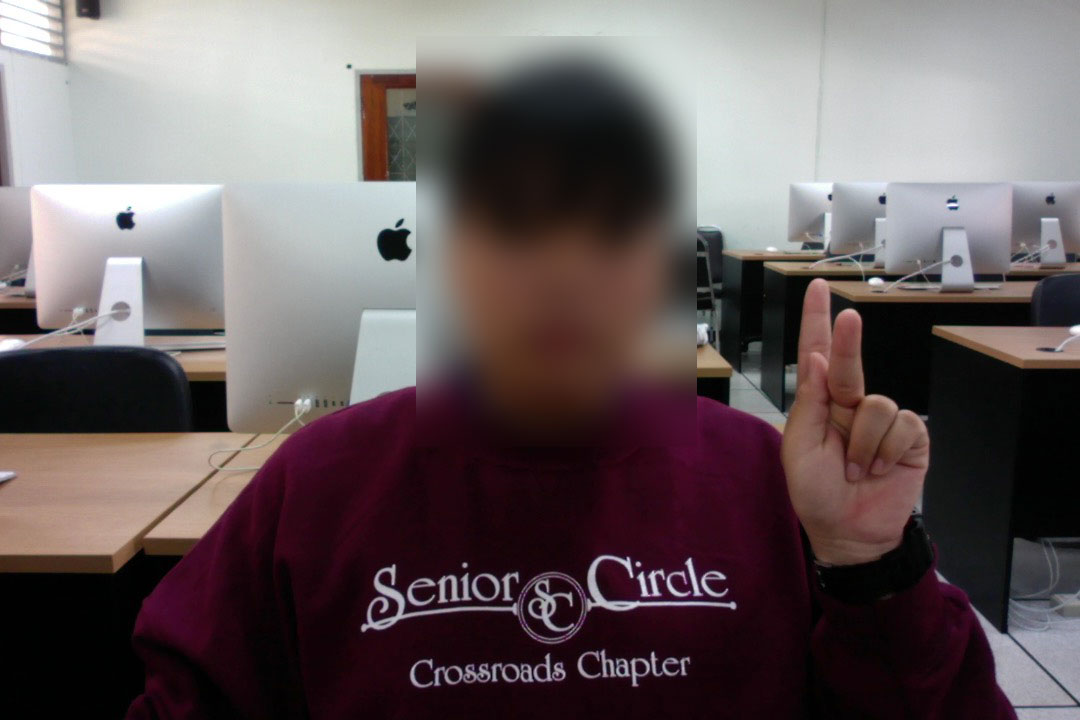ko: (769, 266, 935, 587)
